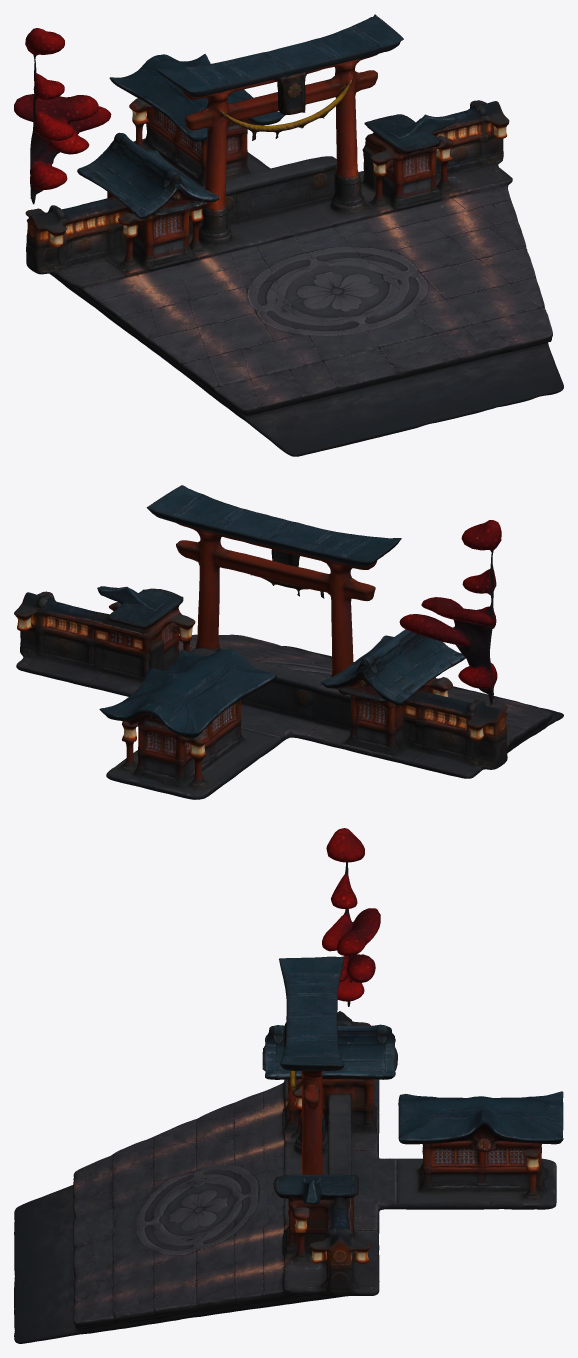
The model's file is tripo_convert_04d77d40-0011-481e-acae-482ee8b217c7.fbx.
3 renders of one model, top to bottom at view 1: azimuth 30°, elevation 25°; view 2: azimuth 150°, elevation 25°; view 3: azimuth 270°, elevation 25°, orthographic. The views are drawn at different scales.
Parts seen in each view (by area): view 1: tripo_node_04d77d40; view 2: tripo_node_04d77d40; view 3: tripo_node_04d77d40.
Boxes of the visible parts, x1,y1,x2,y2 form: tripo_node_04d77d40: [14, 14, 563, 456]; tripo_node_04d77d40: [14, 485, 563, 799]; tripo_node_04d77d40: [14, 828, 563, 1343].
Size of the model in its own units: 97.5 by 97.54 by 66.01.
1 material, 1 textured.
